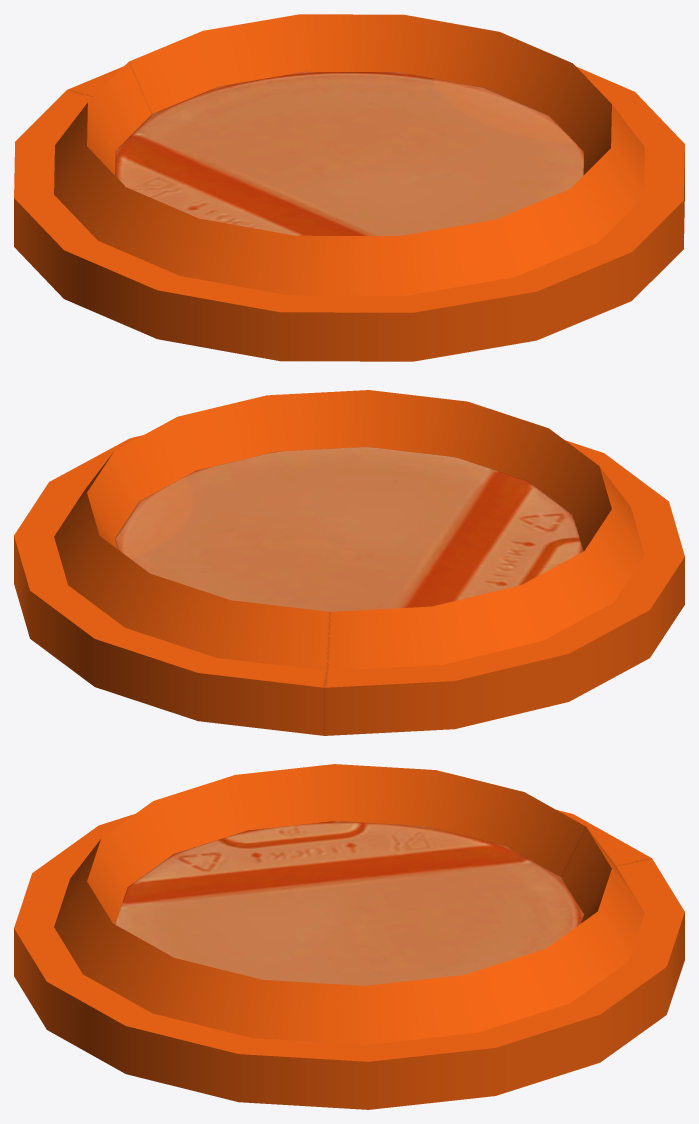
The model's file is lid.fbx.
3 views of the same model, one above another, from view 1: azimuth 30°, elevation 25°; view 2: azimuth 150°, elevation 25°; view 3: azimuth 270°, elevation 25° (orthographic).
Visible parts, largest first — view 1: Cylinder.002; view 2: Cylinder.002; view 3: Cylinder.002.
Part boxes in pixels (x1,y1,x2,y2): Cylinder.002: (14,14,684,361); Cylinder.002: (14,390,684,735); Cylinder.002: (14,764,684,1109).
Bounding box in the file's own units: 64.92 × 9.95 × 64.92.
Materials: 1 (1 with a texture image).
